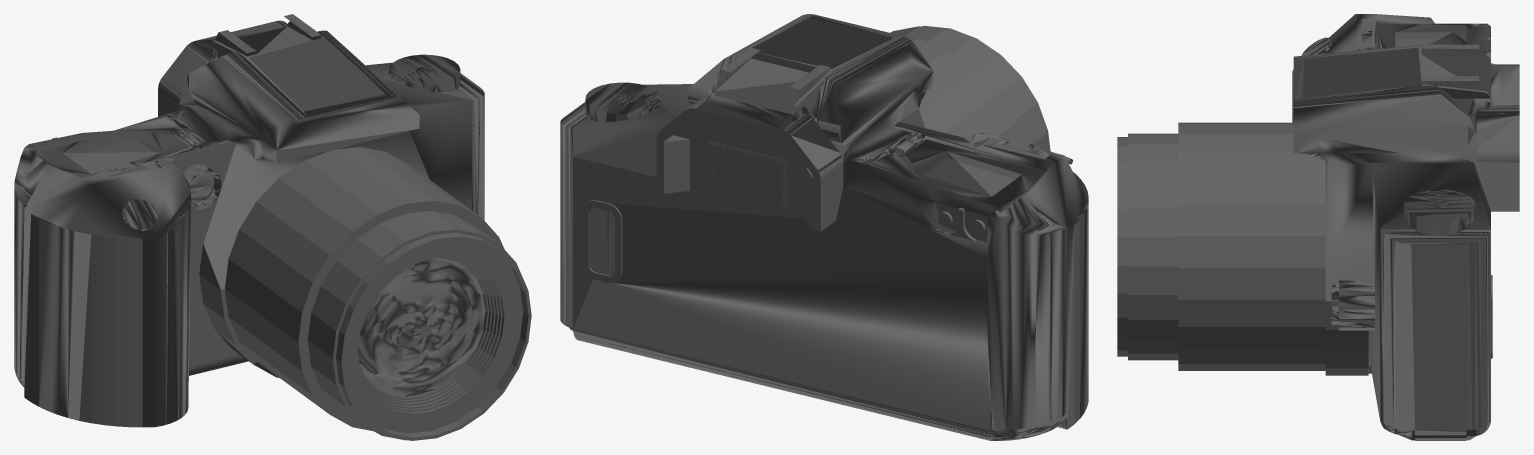
Rendered from model_align.obj.
The picture shows the model from 3 angles, left to right: view 1: azimuth 30°, elevation 25°; view 2: azimuth 150°, elevation 25°; view 3: azimuth 270°, elevation 25°; orthographic projection. The views are drawn at different scales.
Bounding box in the file's own units: 0.1034 × 0.0655 × 0.0793.
